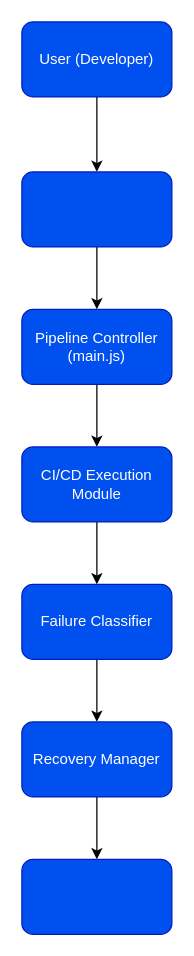
Image size: 194x956. Some labels were removed from this diagram. The shapes that lost their labels are listed below. From the top down, each one's centre as x and y in pixels, then its label:
At point (96, 209): "CLI".
At point (96, 896): "Logger and Notification Service".
